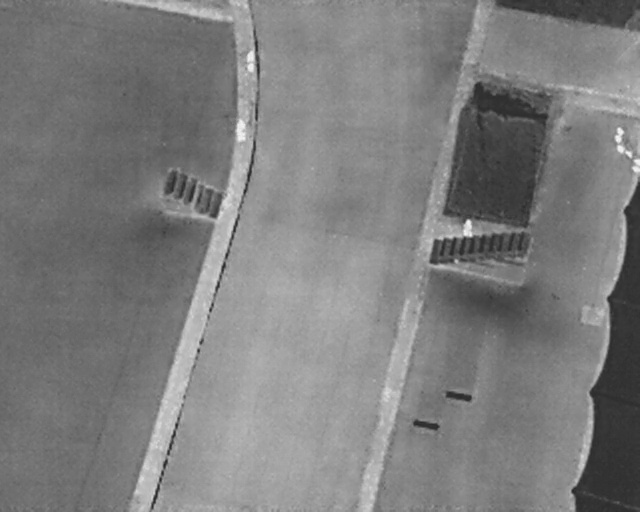Person: (236, 116, 248, 144), (246, 48, 257, 73), (463, 217, 473, 237)
